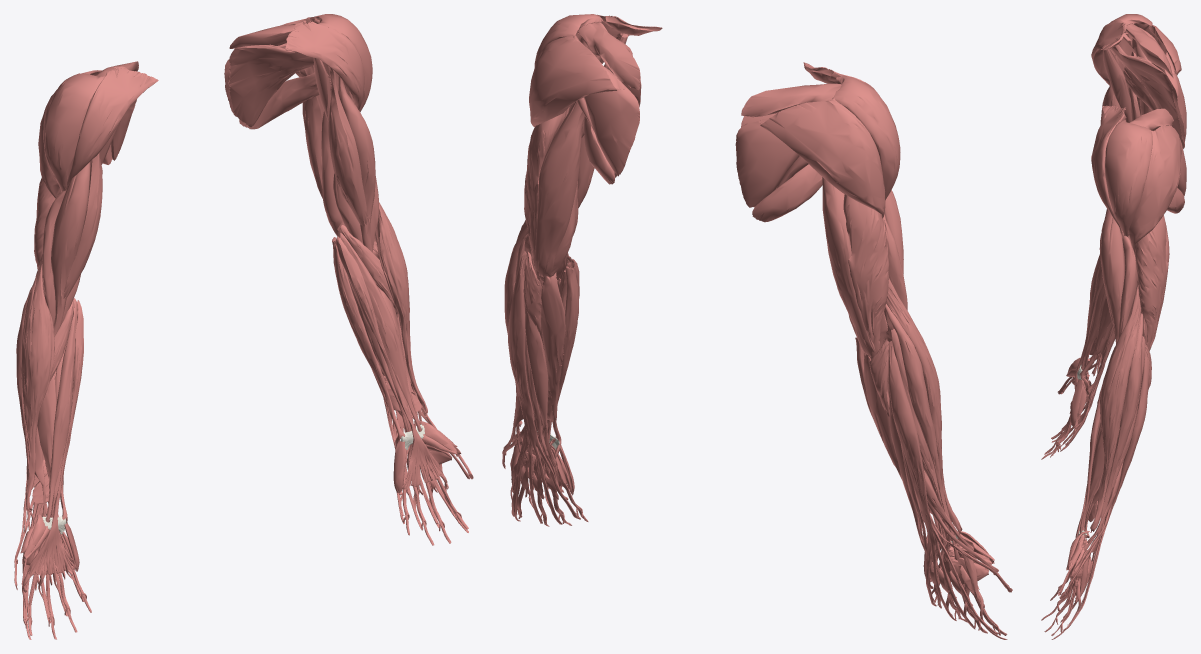
File: muscles-membre-sup.hi.glb
3 renders of one model, left to right at view 1: azimuth 30°, elevation 25°; view 2: azimuth 150°, elevation 25°; view 3: azimuth 270°, elevation 25°, orthographic. The views are drawn at different scales.
Visible parts, largest first — view 1: FJ1487, FJ1504M, FJ1468, FJ1467, FJ1478, FJ1468M, FJ1512M, FJ1502M, FJ1487M, FJ1502, FJ1496, FJ1496M (+18 smaller); view 2: FJ1513, FJ1479M, FJ1513M, FJ1477, FJ1492, FJ1492M, FJ1500, FJ1500M, FJ1467, FJ1479, FJ1490, FJ1487 (+24 smaller); view 3: FJ1467M, FJ1487M, FJ1513M, FJ1477M, FJ1478M, FJ1490M, FJ1504, FJ1468M, FJ1492M, FJ1486M, FJ1468, FJ1488 (+27 smaller).
Boxes of the visible parts, <box> form: FJ1487: <box>21,254,55,513</box>; FJ1504M: <box>228,44,313,127</box>; FJ1468: <box>66,66,158,189</box>; FJ1467: <box>43,73,104,191</box>; FJ1478: <box>51,162,90,335</box>; FJ1468M: <box>285,20,364,109</box>; FJ1512M: <box>328,66,367,226</box>; FJ1502M: <box>336,236,443,490</box>; FJ1487M: <box>375,202,427,416</box>; FJ1502: <box>28,300,83,575</box>; FJ1496: <box>45,298,77,522</box>; FJ1496M: <box>340,233,421,431</box>; FJ1513: <box>758,98,885,218</box>; FJ1479M: <box>533,101,584,277</box>; FJ1513M: <box>529,34,625,127</box>; FJ1477: <box>843,194,889,358</box>; FJ1492: <box>888,341,998,634</box>; FJ1492M: <box>508,251,580,524</box>; FJ1500: <box>735,121,799,207</box>; FJ1500M: <box>574,35,639,175</box>; FJ1467: <box>832,76,900,200</box>; FJ1479: <box>822,177,875,356</box>; FJ1490: <box>885,303,960,559</box>; FJ1487: <box>886,278,962,533</box>; FJ1467M: <box>1105,120,1152,236</box>; FJ1487M: <box>1090,281,1140,532</box>; FJ1513M: <box>1128,125,1181,247</box>; FJ1477M: <box>1134,216,1168,351</box>; FJ1478M: <box>1100,210,1124,343</box>; FJ1490M: <box>1091,313,1143,553</box>; FJ1504: <box>1110,44,1181,140</box>; FJ1468M: <box>1091,105,1126,233</box>; FJ1492M: <box>1060,350,1149,630</box>; FJ1486M: <box>1118,231,1137,338</box>; FJ1468: <box>1091,22,1126,85</box>; FJ1488: <box>1103,49,1131,122</box>.
Size of the model in its own units: 0.6388 by 0.6899 by 0.1905.
